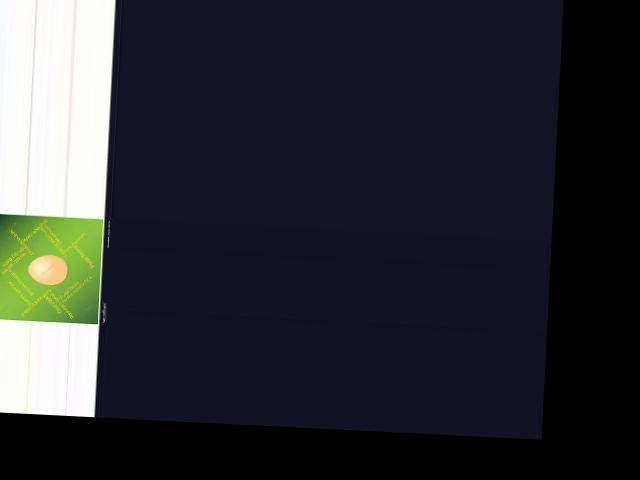egg: (28, 253, 67, 285)
